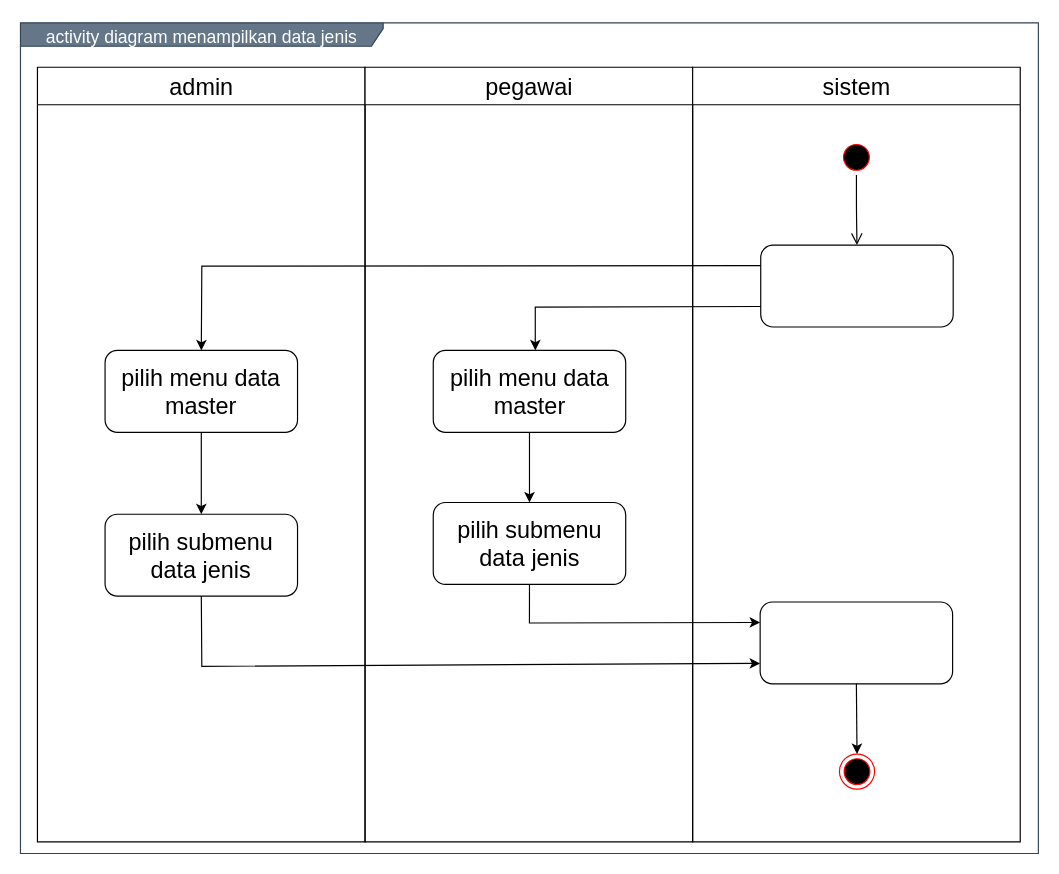
The diagram is 1059 pixels wide and 874 high, and some of its shapes have lost their labels. Each missing label, with the centre of its shape:
menampilkan dashboard sesuai rolenya: [856,285]
menampilkan data jenis: [856,642]
